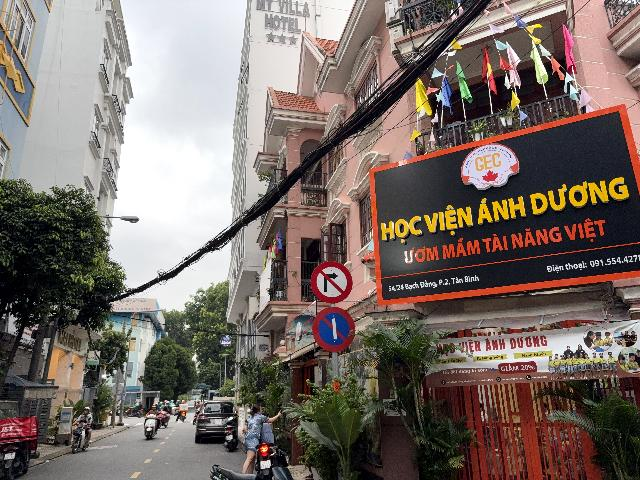cam-do-xe-ngay-le: (312, 306, 356, 352)
cam-re-phai: (310, 261, 353, 303)
